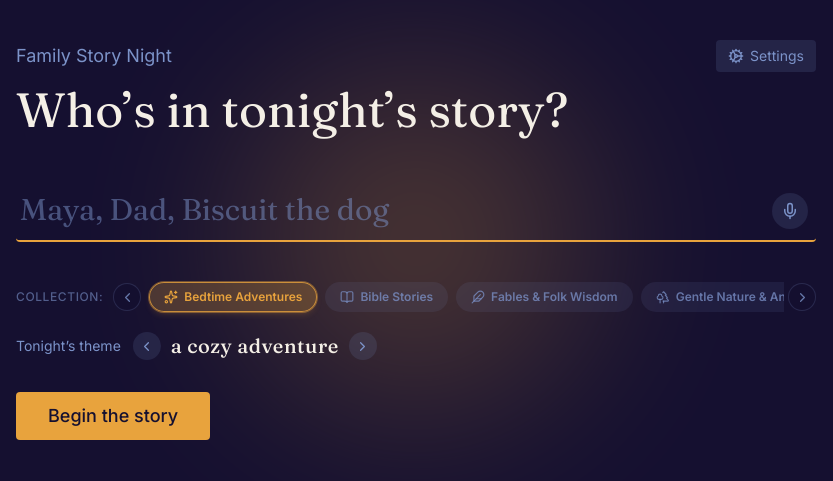
Test: Bible Stories Integration & Category Selection › App Full Flow with Bible Stories › still requires at least one name when category is 'adventures'
// In adventures category with empty names
Click the button "Begin the story": (113, 416) [16, 392, 210, 440]
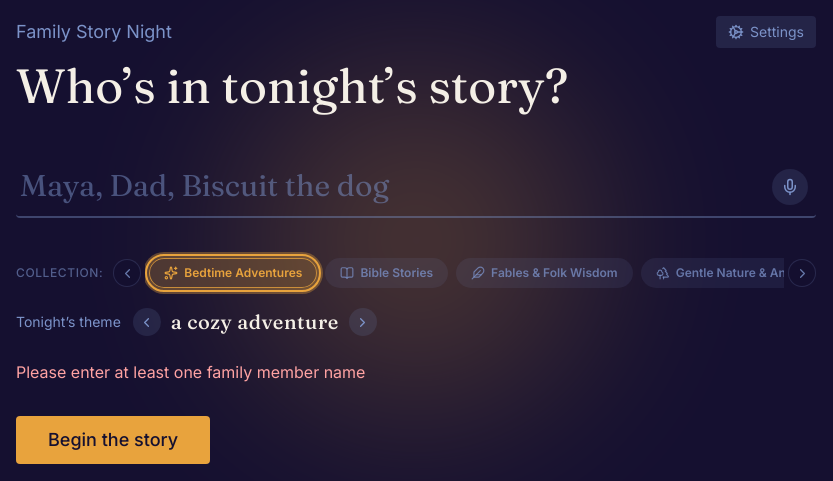
Check: the text "Please enter at least one family member name" is shown, box [16, 362, 366, 382]
